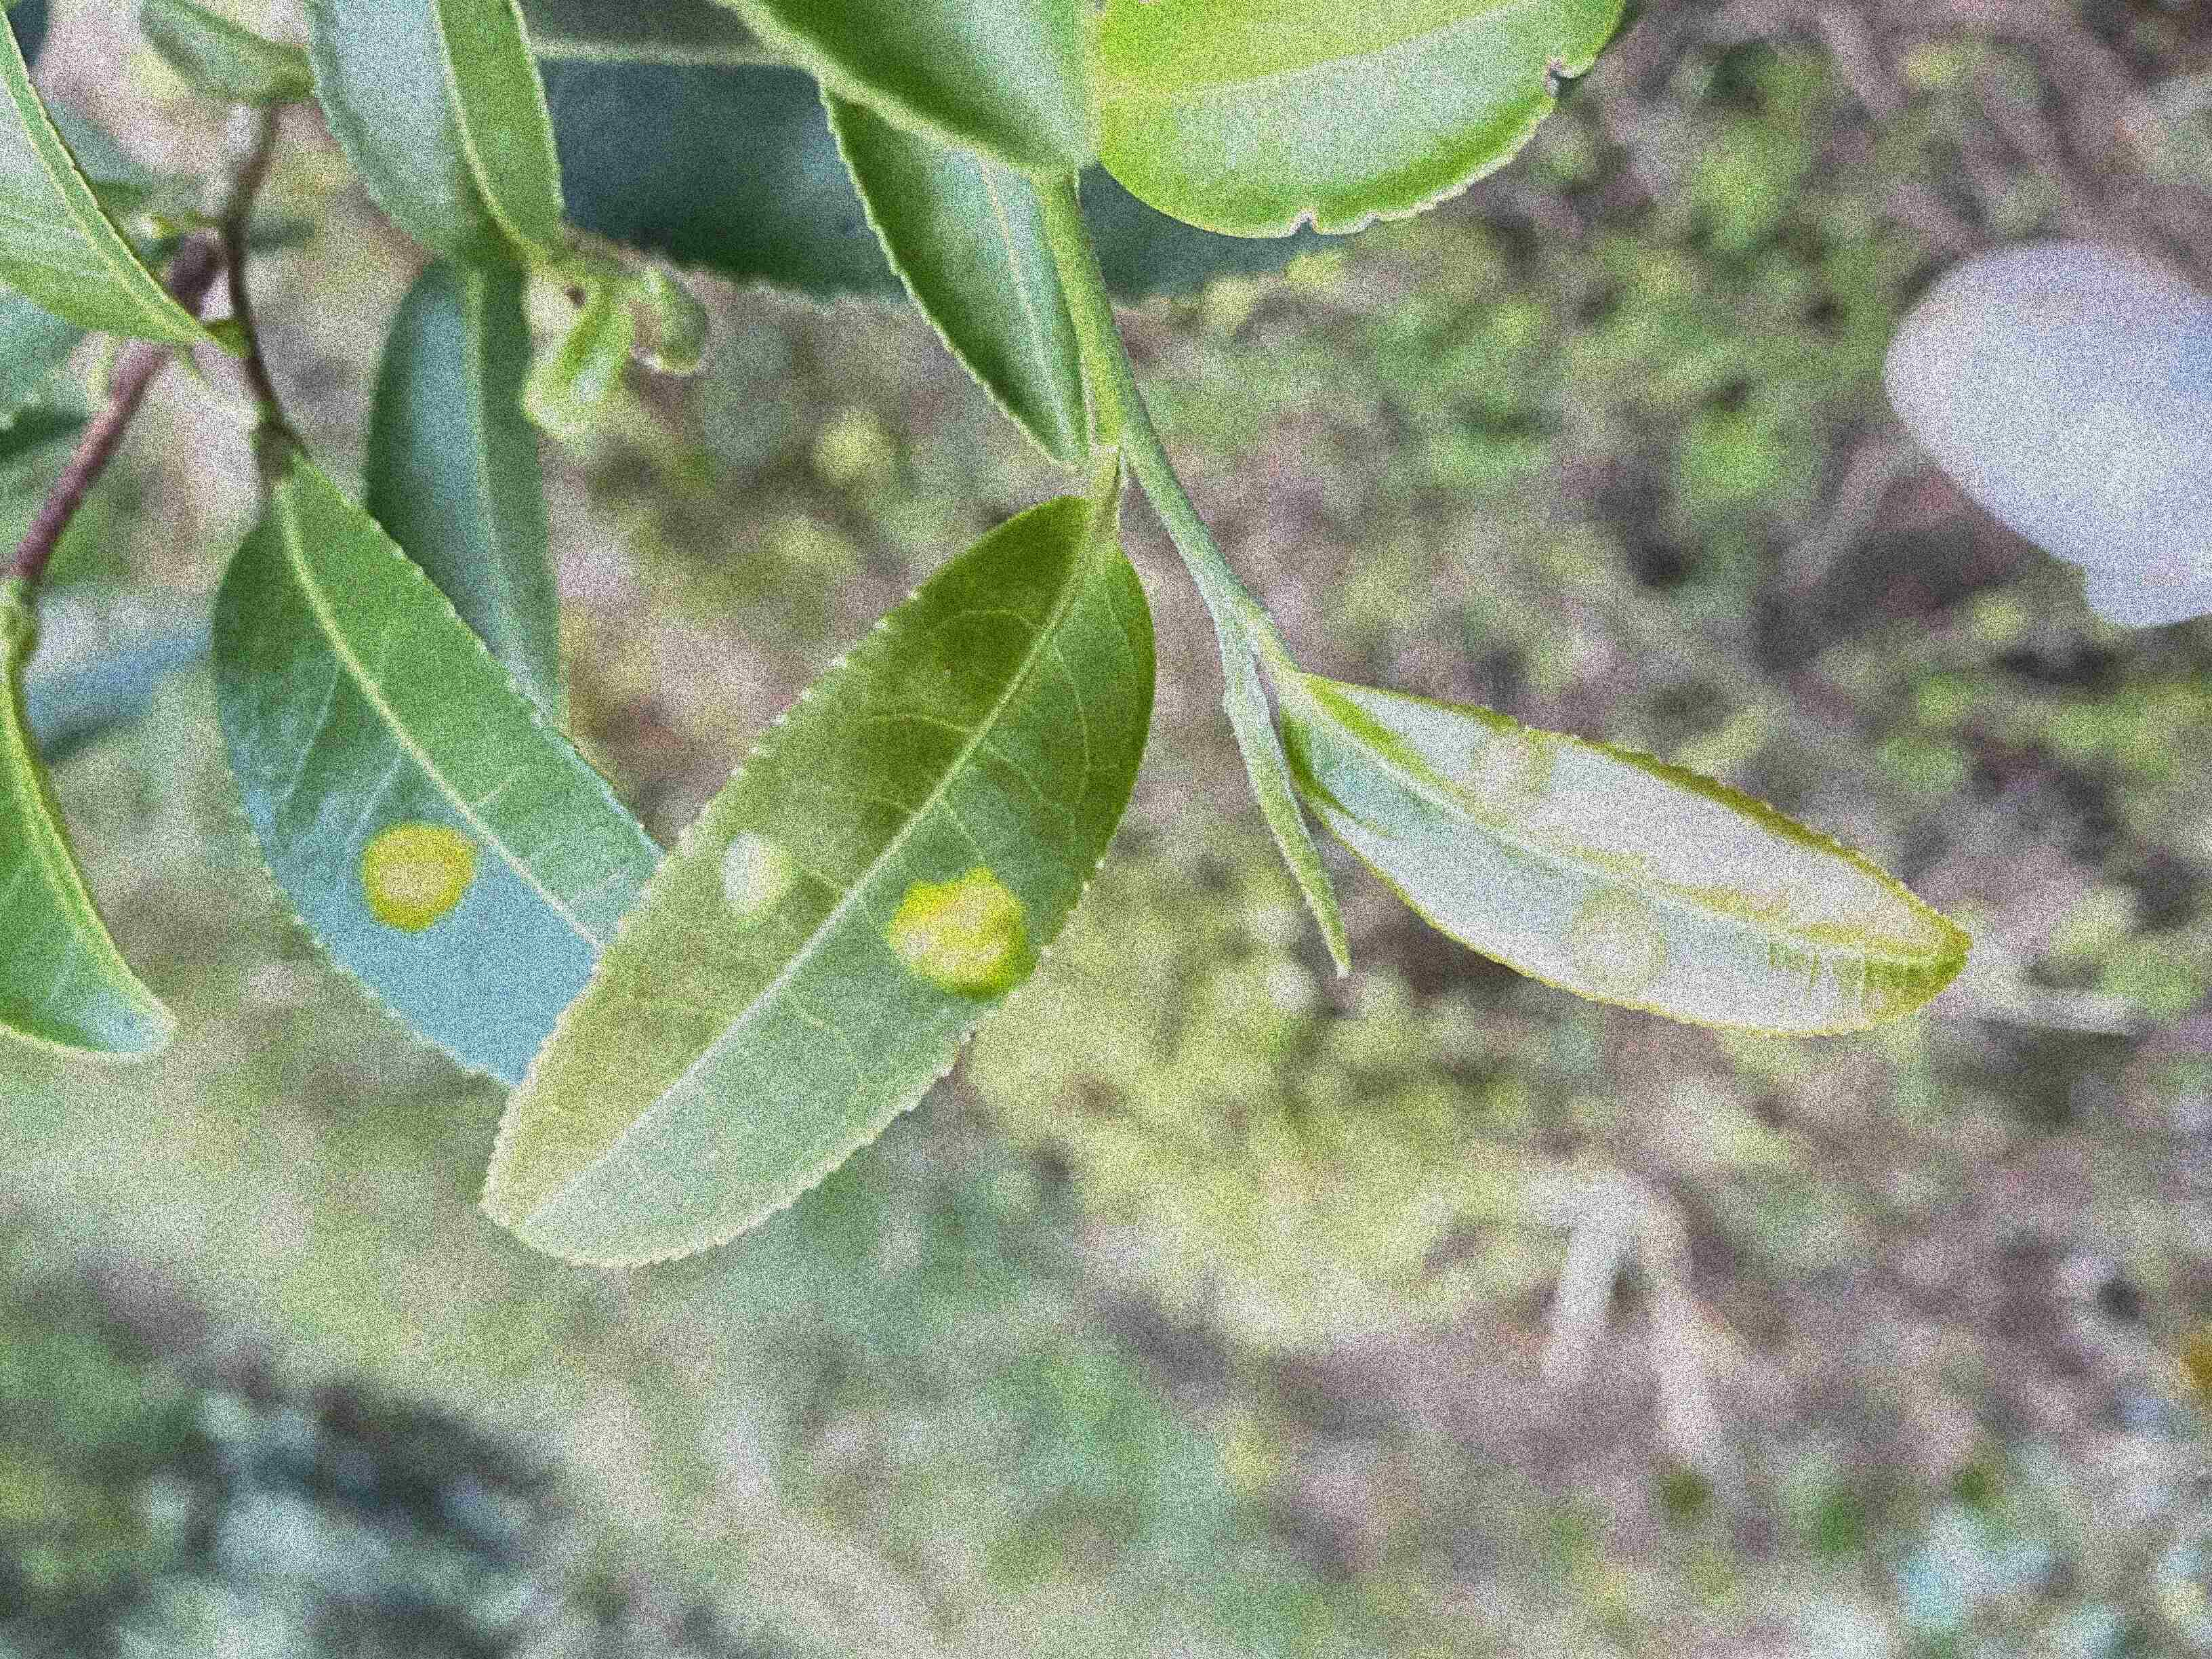chabing_high: (477, 498, 1158, 1272), (1280, 671, 1973, 1040)
chabing_low: (214, 457, 664, 1086)
